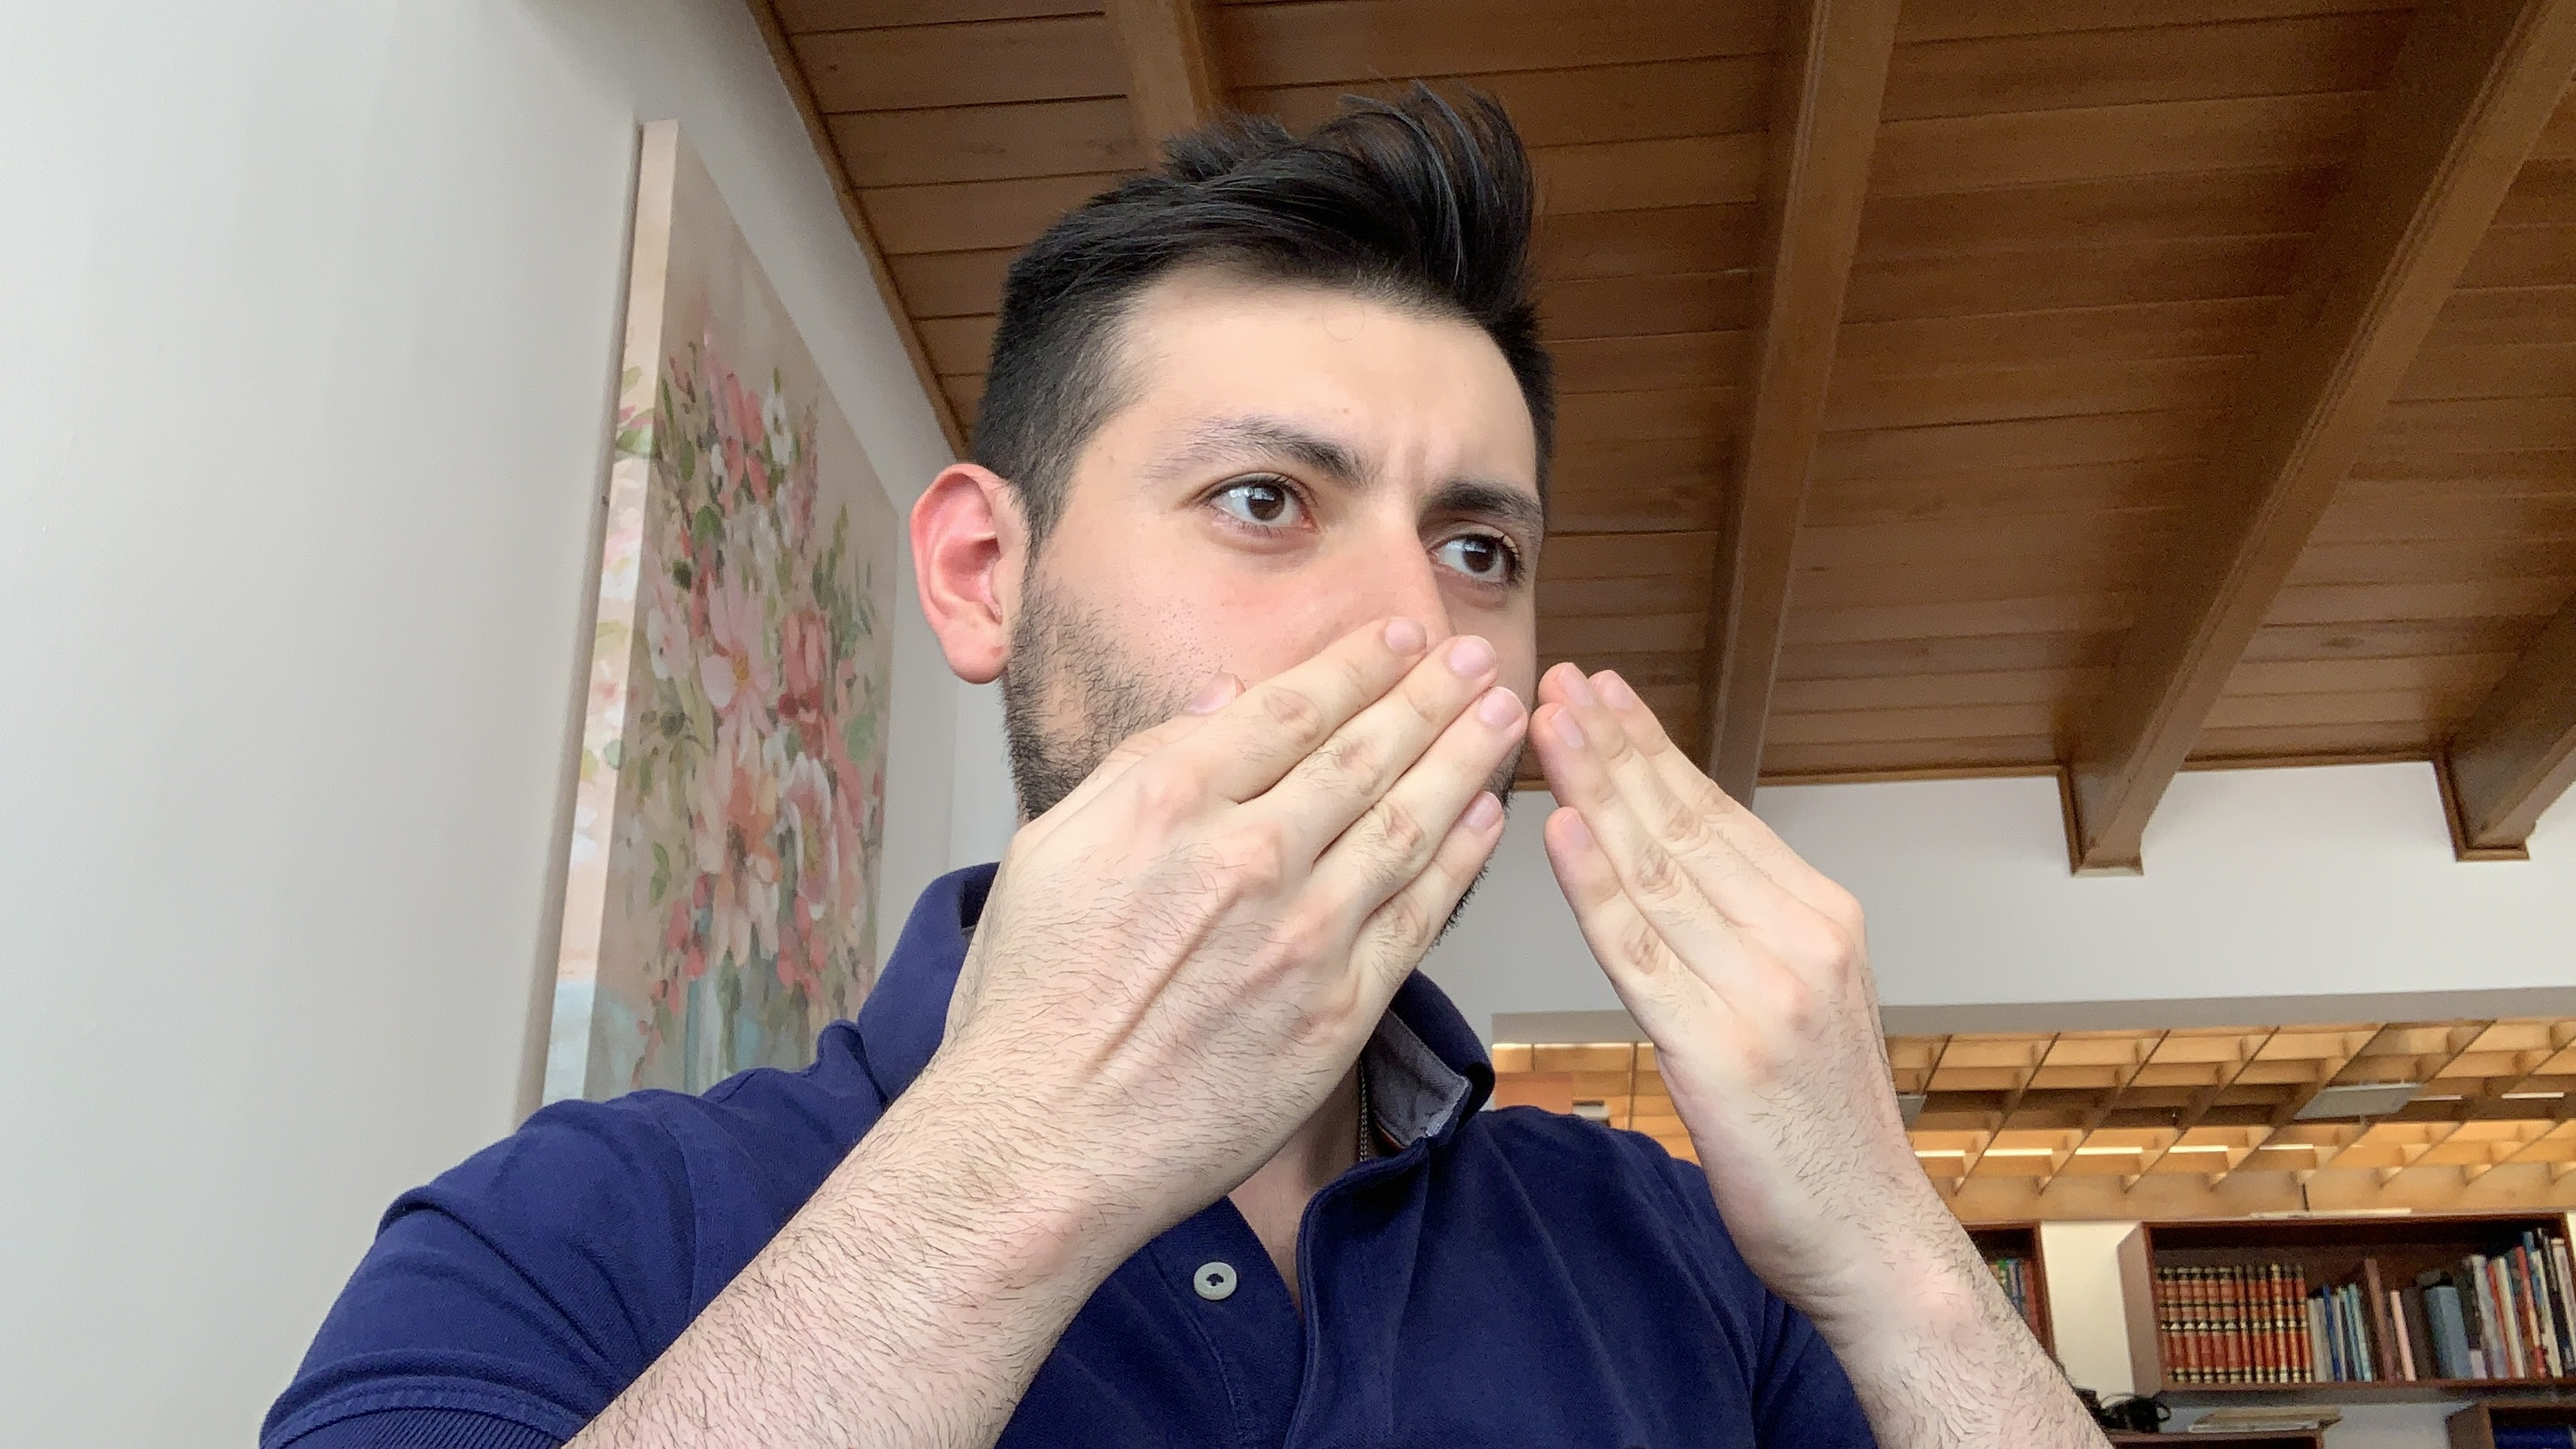Thank You: (955, 607, 1904, 1297)
